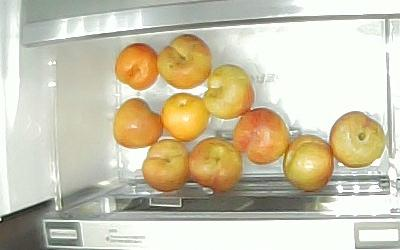prune: (330, 111, 385, 170), (187, 138, 242, 195), (235, 108, 289, 165), (156, 35, 211, 88), (282, 134, 333, 191), (205, 63, 255, 119), (114, 98, 163, 148), (143, 139, 188, 192), (161, 93, 209, 141), (115, 44, 160, 91)
